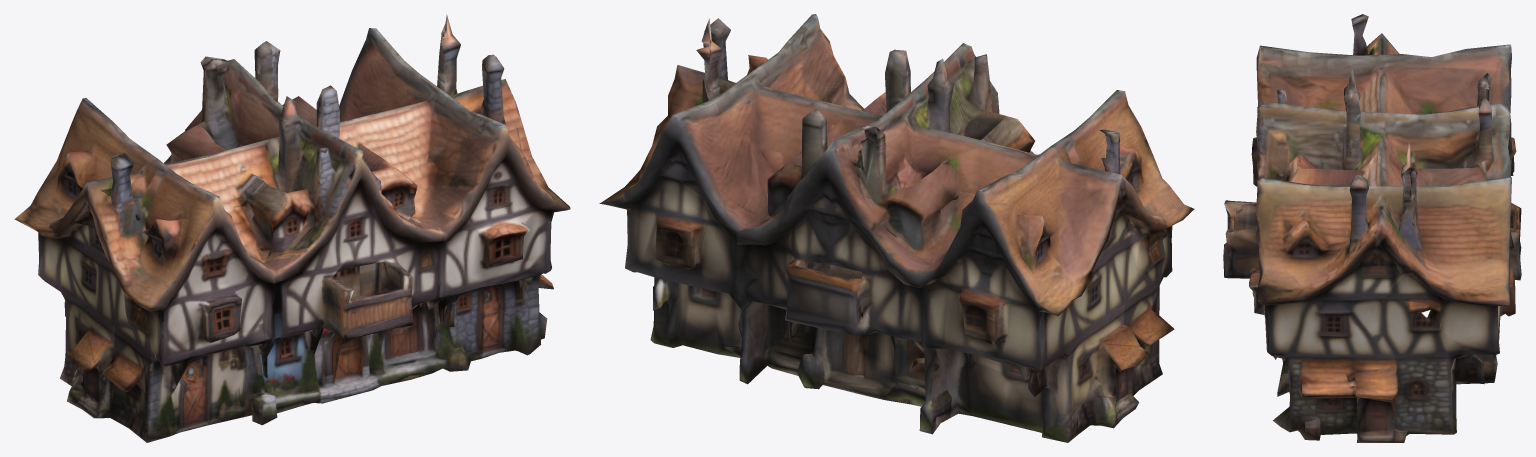
The model's file is house_small.glb.
The picture shows the model from 3 angles, left to right: view 1: azimuth 30°, elevation 25°; view 2: azimuth 150°, elevation 25°; view 3: azimuth 270°, elevation 25°; orthographic projection. The views are drawn at different scales.
Parts seen in each view (by area): view 1: Mesh1.0; view 2: Mesh1.0; view 3: Mesh1.0.
Boxes of the visible parts, box(x1,y1,x2,y2) form: Mesh1.0: box(14, 14, 570, 442); Mesh1.0: box(599, 14, 1194, 442); Mesh1.0: box(1223, 14, 1521, 442).
Bounding box in the file's own units: 2.02 × 1.27 × 1.23.
Materials: 1 (1 with a texture image).
